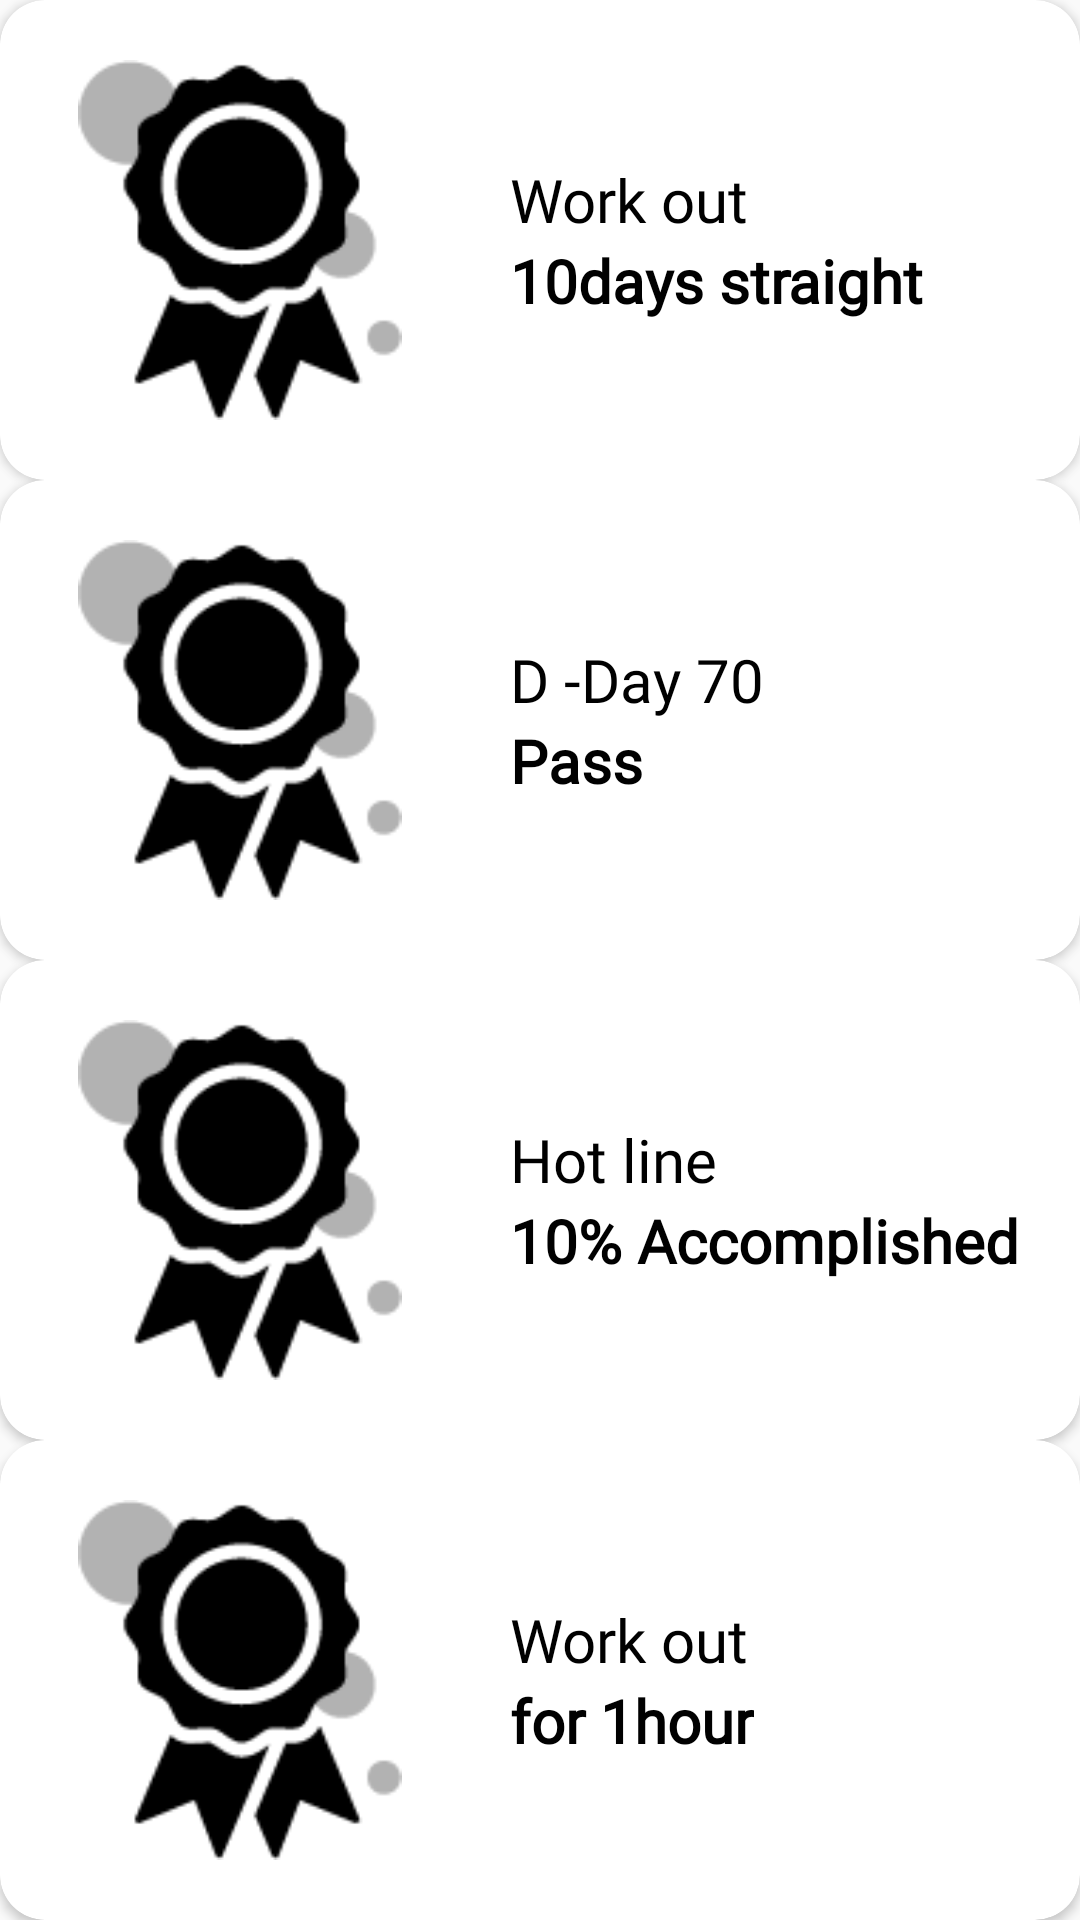

Icons on this 1080 x 1920 Android screen, each with its box as (x1, y1, x2, y2):
badge: (78, 62, 402, 420), (78, 542, 402, 900), (78, 1022, 402, 1380), (78, 1502, 402, 1860)
